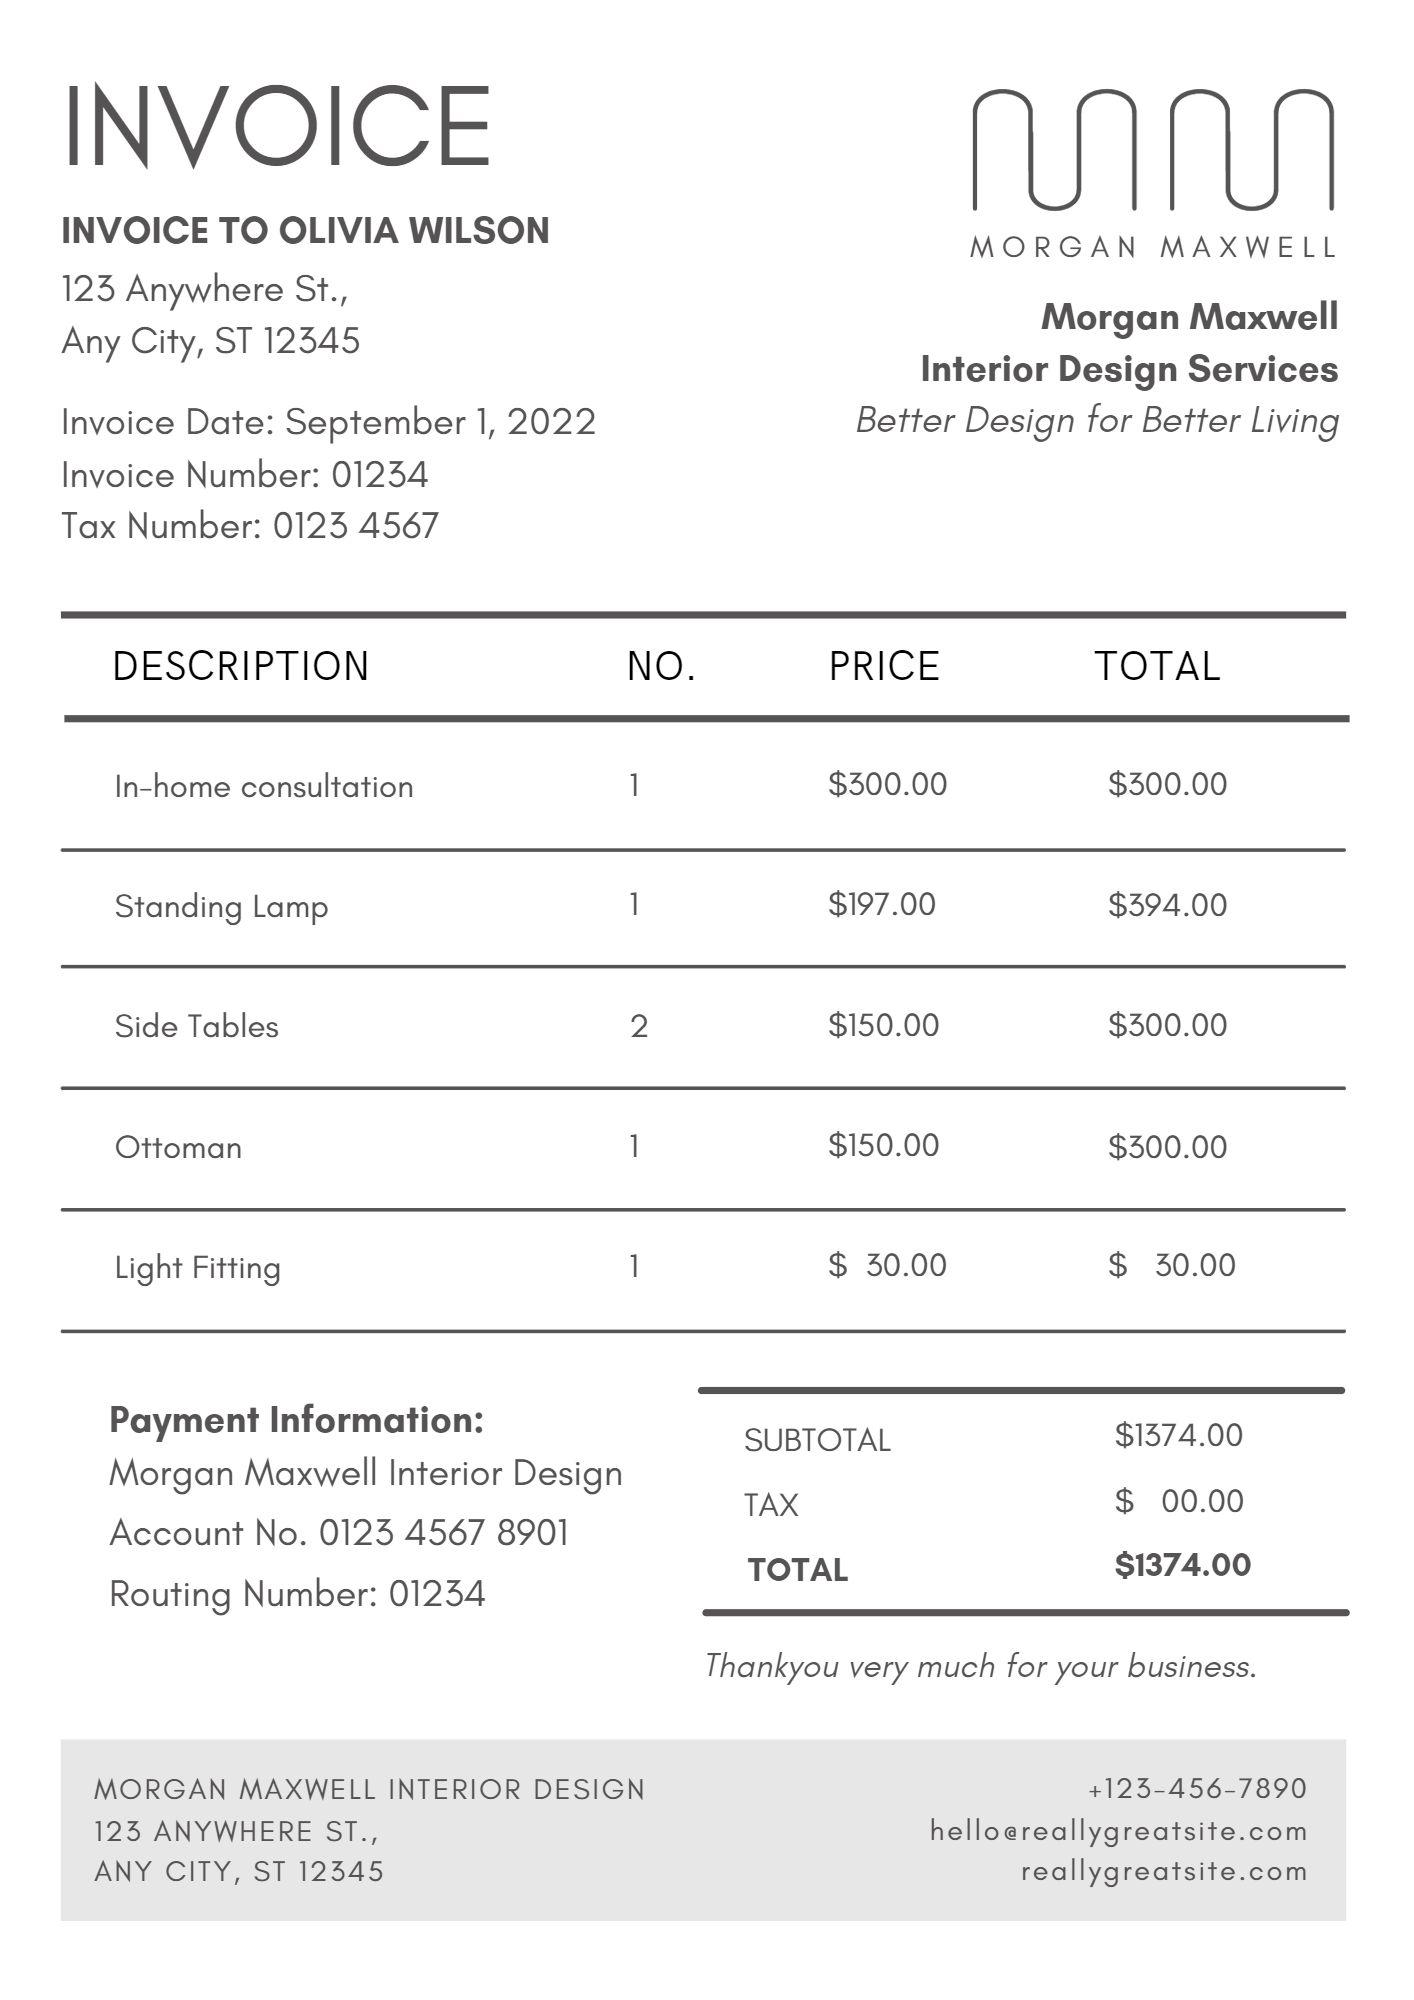ROI: (61, 606, 1345, 1336)
